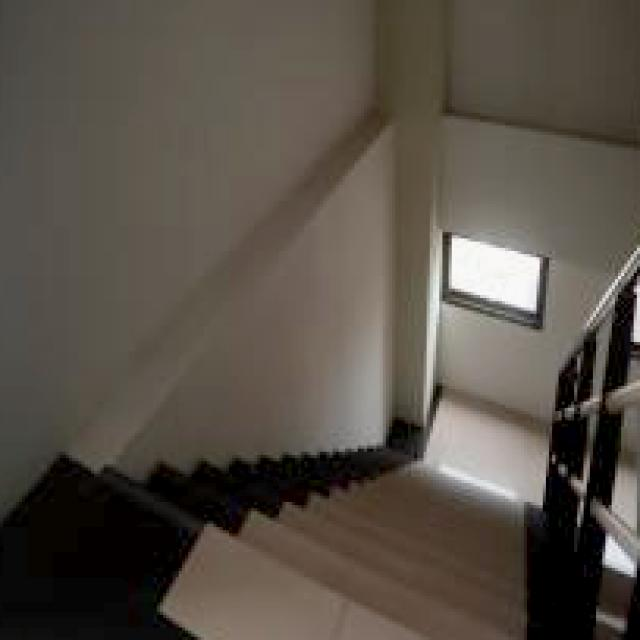downstair: (211, 493, 493, 640)
